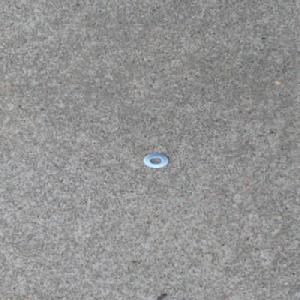Washer: (142, 152, 170, 168)
